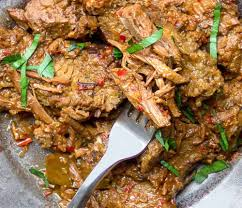rendang: (2, 2, 242, 206)
